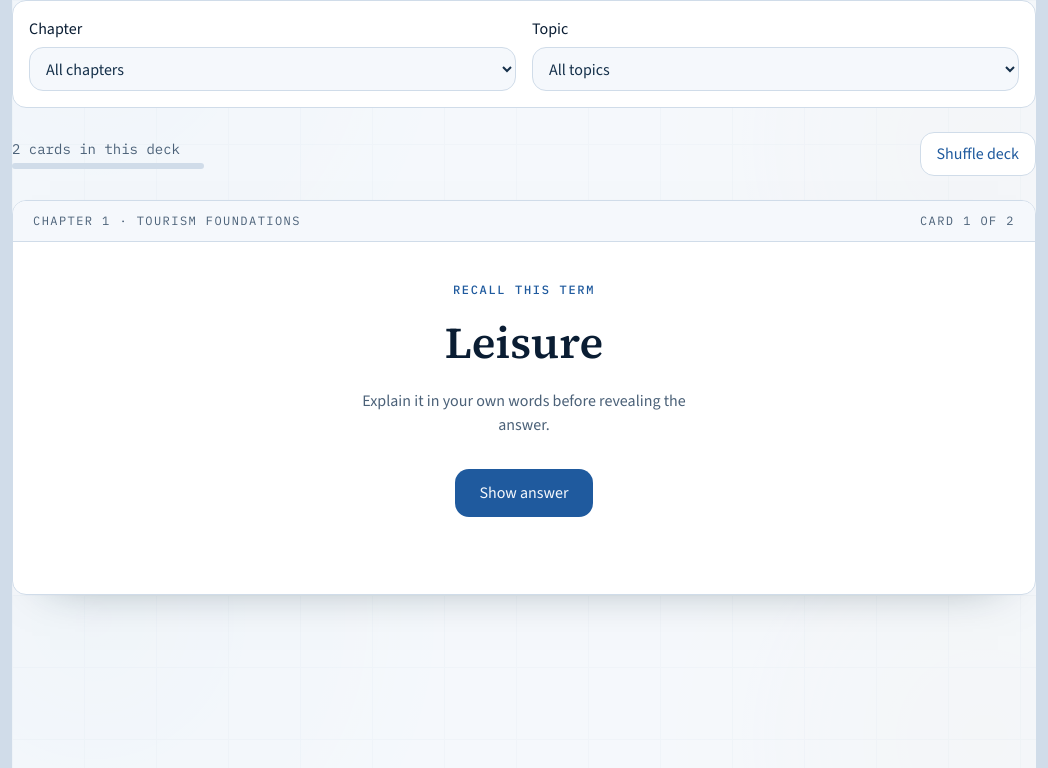
Test: FlashcardDeck › reveals sourced answers, records self-ratings, and builds a review deck
The image size is (1048, 768).
Expected: the heading "Leisure" is shown, [445, 318, 603, 369]
Expected: the text "free time remaining" is not shown
Click the button "Show answer".
click(524, 493)  # box [456, 469, 592, 517]
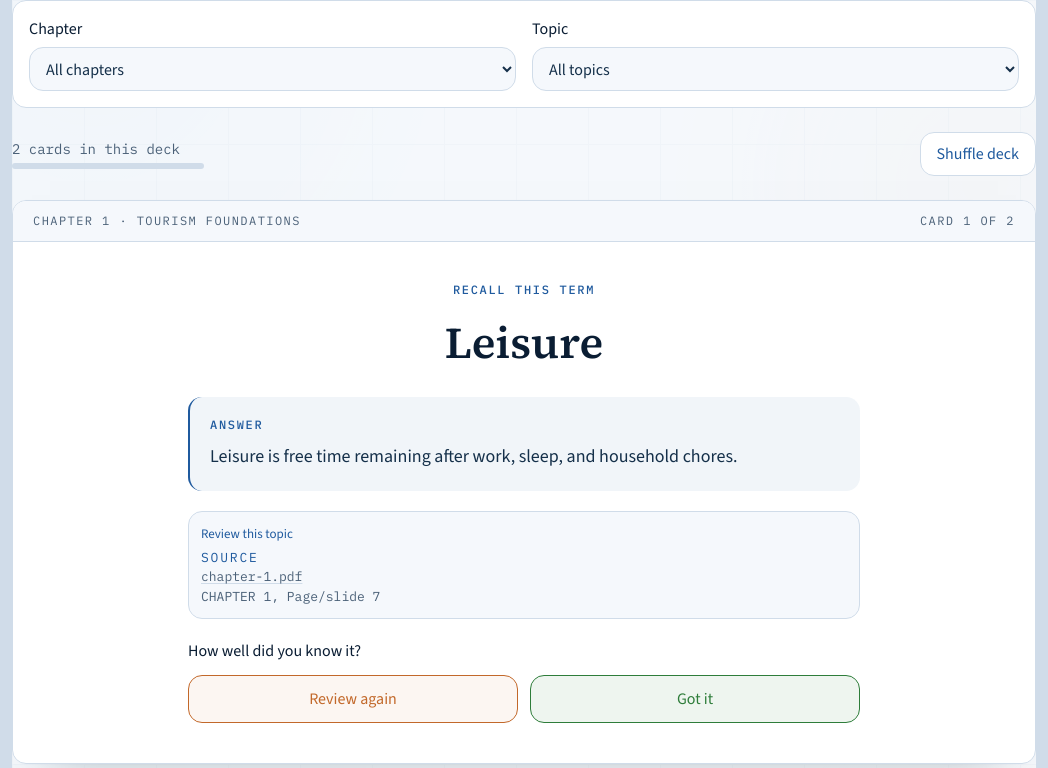
Expected: the text "free time remaining" is shown, [210, 444, 737, 468]
Click the button "Got it".
click(695, 699)  # box [530, 675, 860, 723]
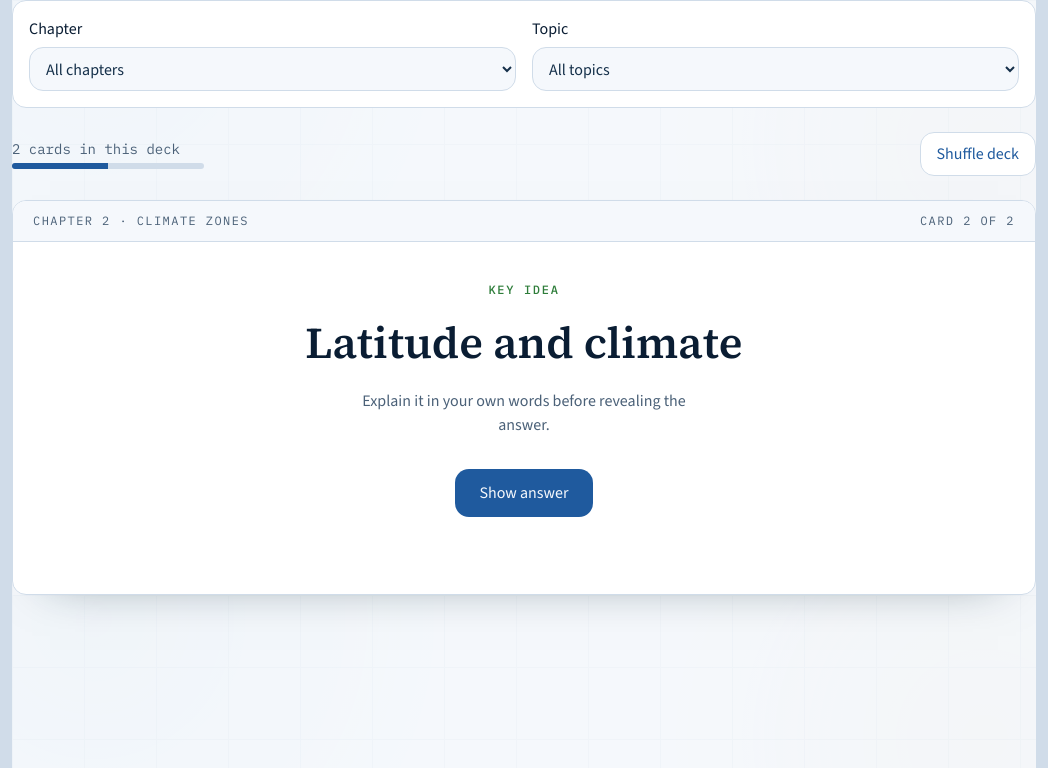
Expected: the heading "Latitude and climate" is shown, [305, 318, 743, 369]
Click the button "Show answer".
click(524, 493)  # box [456, 469, 592, 517]
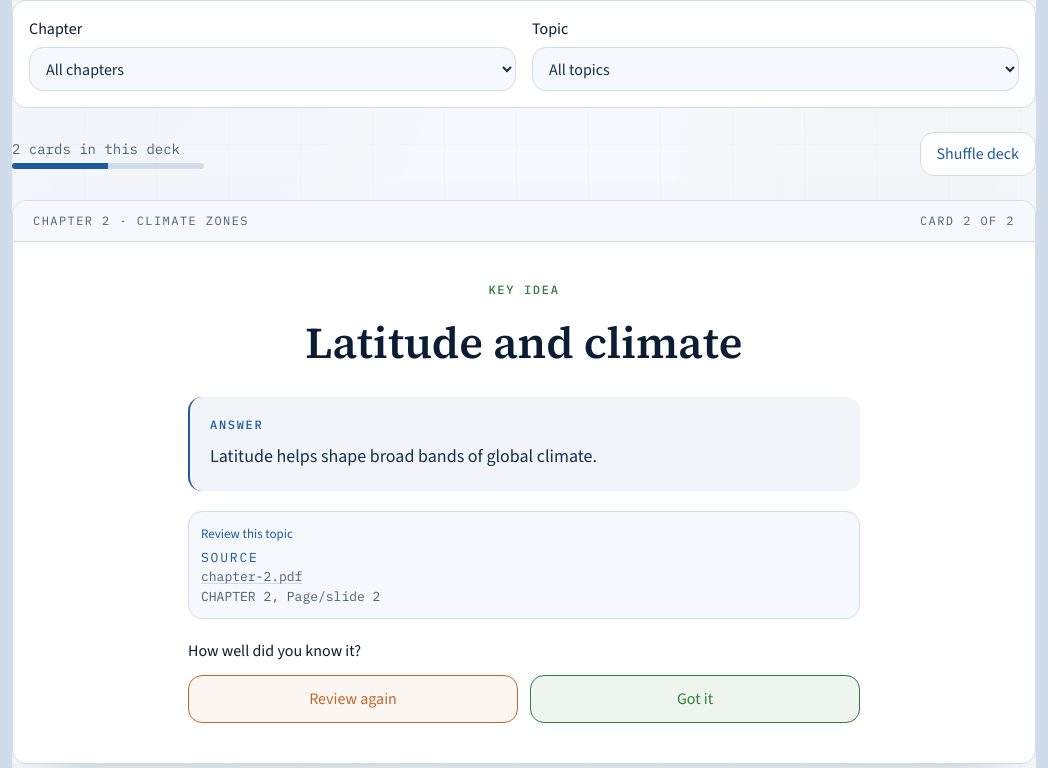
Click the button "Review again".
click(353, 699)  # box [188, 675, 518, 723]
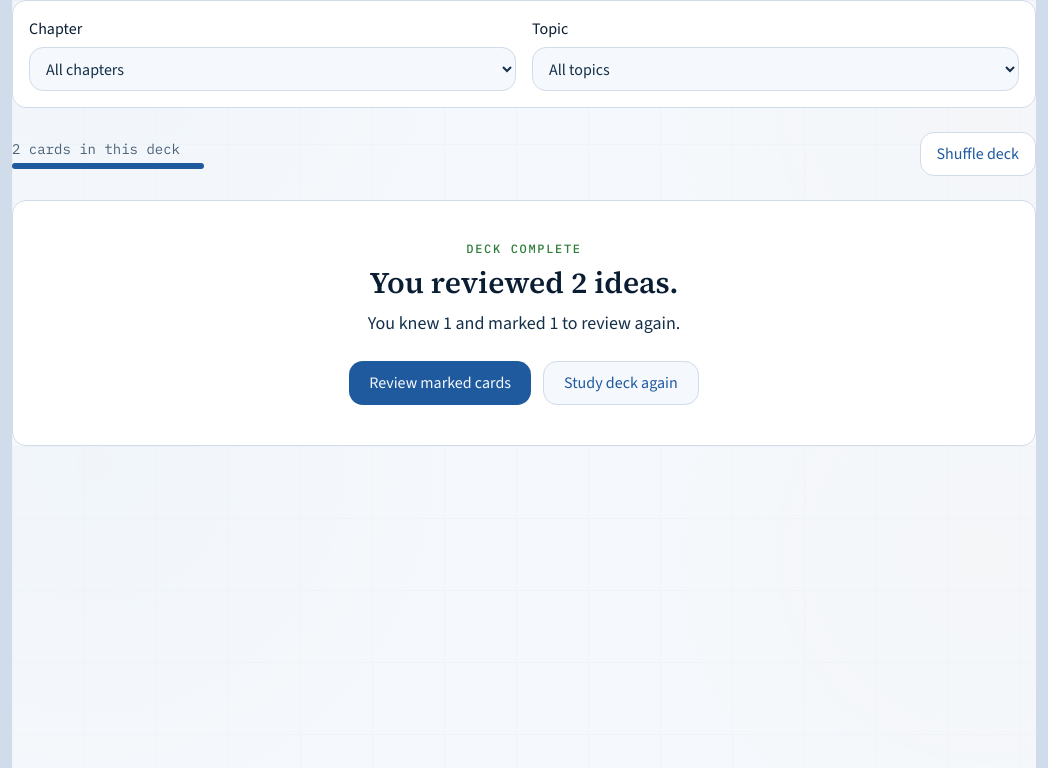
Expected: the heading "You reviewed 2 ideas." is shown, [370, 262, 679, 303]
Expected: the text "You knew 1 and marked 1 to review again." is shown, [368, 311, 680, 335]
Click the button "Review marked cards".
click(440, 383)  # box [349, 361, 531, 405]
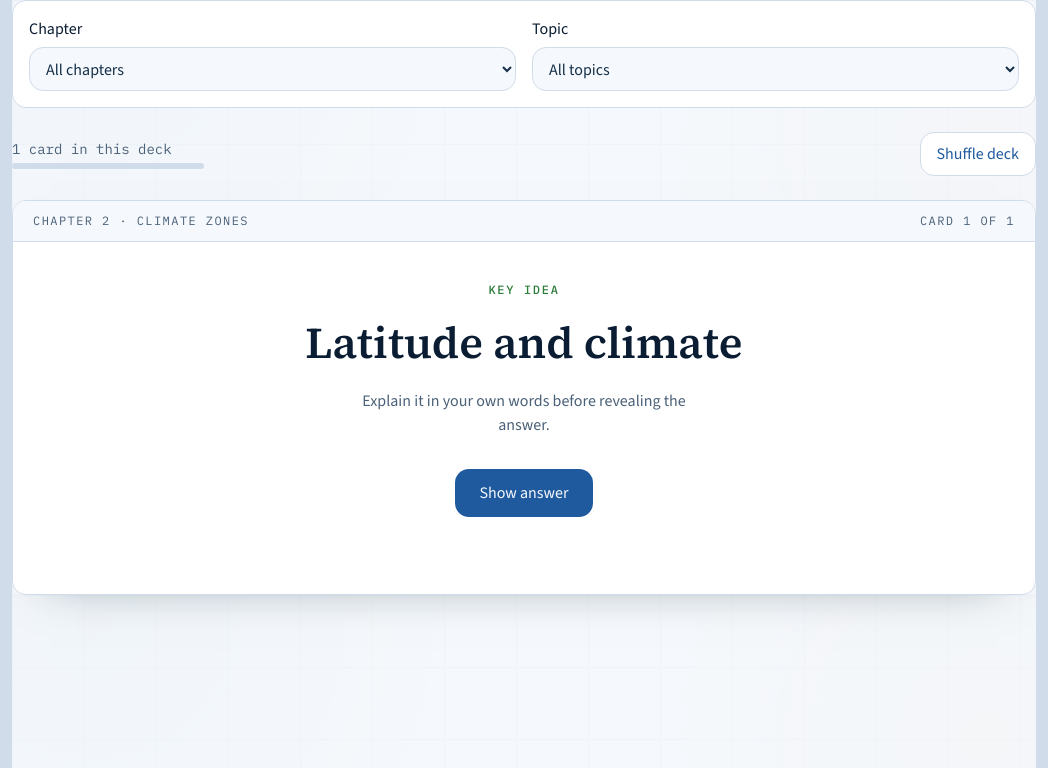
Expected: the heading "Latitude and climate" is shown, [305, 318, 743, 369]
Expected: the text "1 card in this deck" is shown, [12, 140, 172, 158]
